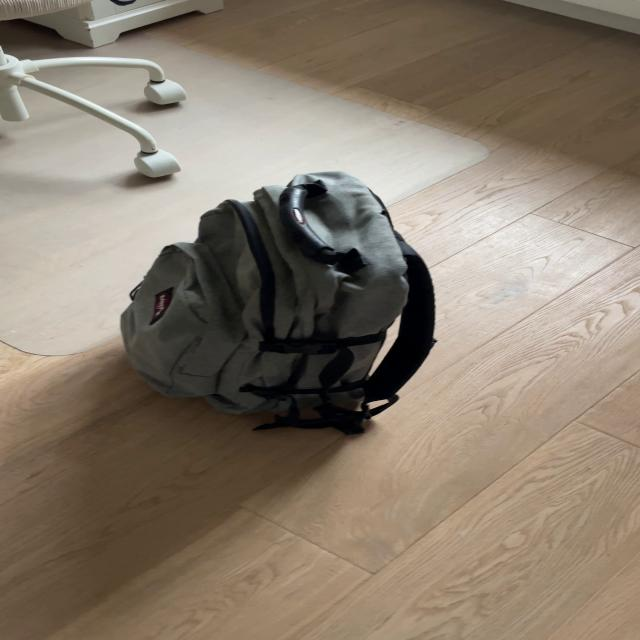backpack: (108, 157, 444, 441)
